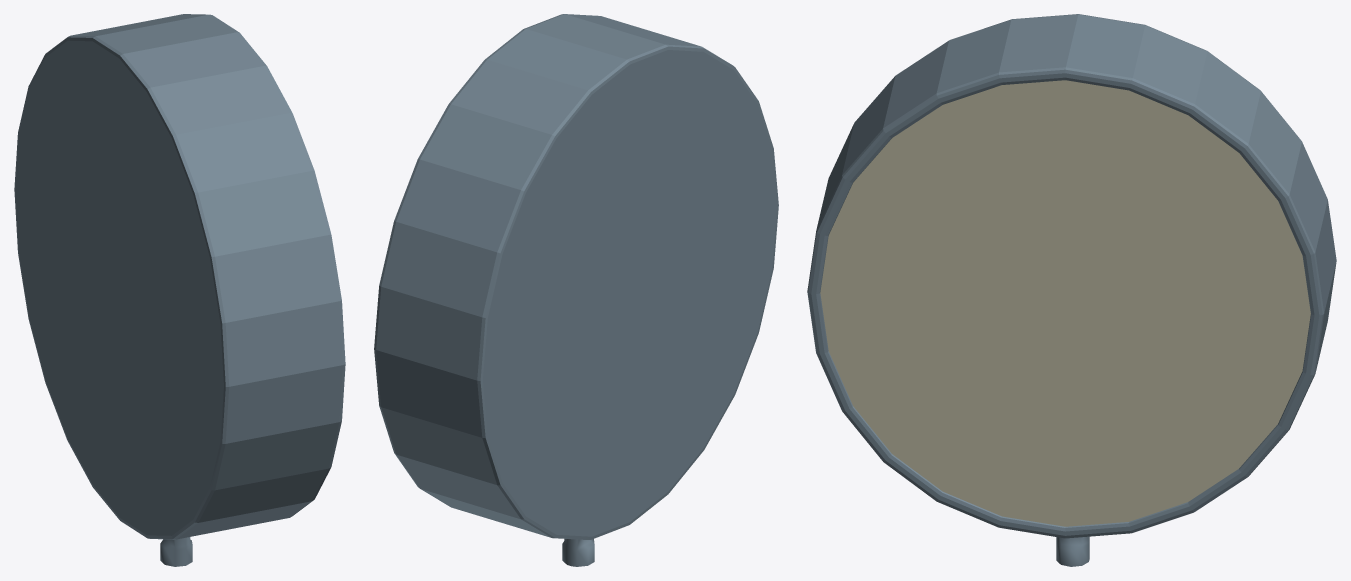
The model's file is 压力表总成.fbx.
3 views of the same model, side by side, from view 1: azimuth 30°, elevation 25°; view 2: azimuth 150°, elevation 25°; view 3: azimuth 270°, elevation 25° (orthographic).
Parts seen in each view (by area): view 1: 压力表_表壳, 压力表_过程接头; view 2: 压力表_表壳, 压力表_过程接头; view 3: 压力表_表盘, 压力表_表壳, 压力表_过程接头.
Boxes of the visible parts, x1,y1,x2,y2 form: 压力表_表壳: [14, 14, 345, 539]; 压力表_过程接头: [160, 537, 192, 566]; 压力表_表壳: [374, 14, 778, 539]; 压力表_过程接头: [562, 539, 594, 566]; 压力表_表盘: [820, 80, 1310, 526]; 压力表_表壳: [807, 14, 1336, 538]; 压力表_过程接头: [1056, 536, 1089, 566].
Bounding box in the file's own units: 0.0249 × 0.0779 × 0.0718.
